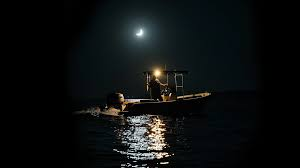boat: (84, 64, 214, 121)
